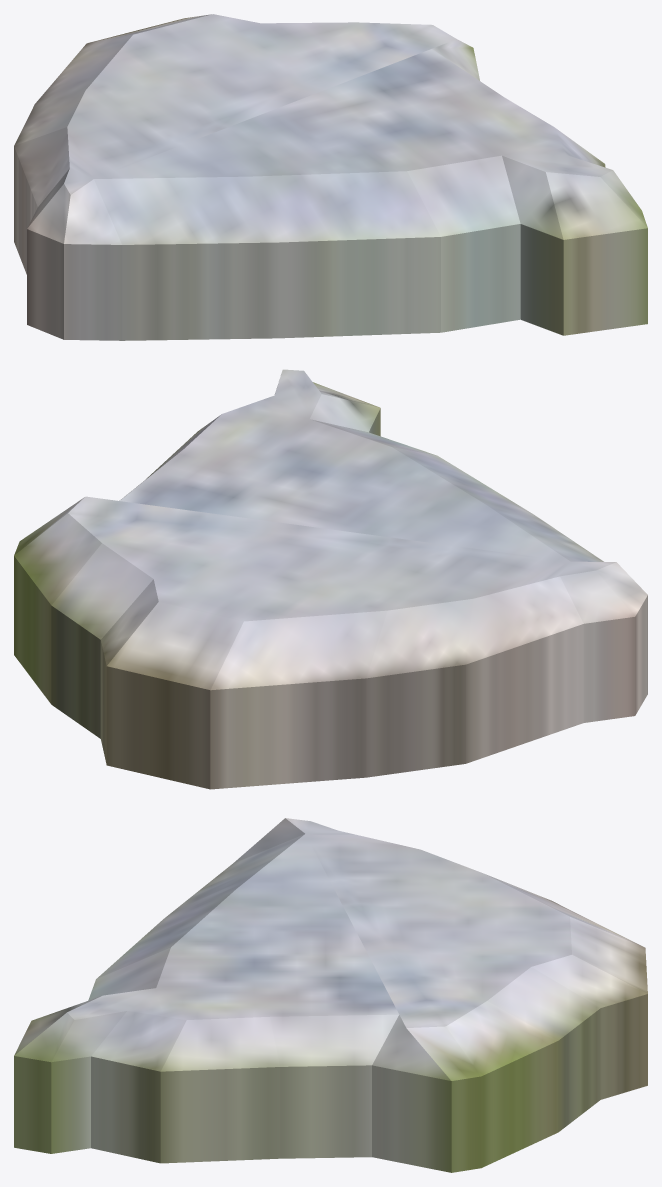
The model's file is stone.30.fbx.
3 renders of one model, top to bottom at view 1: azimuth 30°, elevation 25°; view 2: azimuth 150°, elevation 25°; view 3: azimuth 270°, elevation 25°, orthographic. The views are drawn at different scales.
Visible parts, largest first — view 1: stone.30; view 2: stone.30; view 3: stone.30.
Boxes of the visible parts, box(x1,y1,x2,y2) form: stone.30: box(14, 14, 647, 340); stone.30: box(14, 369, 647, 789); stone.30: box(14, 818, 647, 1172).
Size of the model in its own units: 40.29 by 9.74 by 44.38.
1 material, 1 textured.
